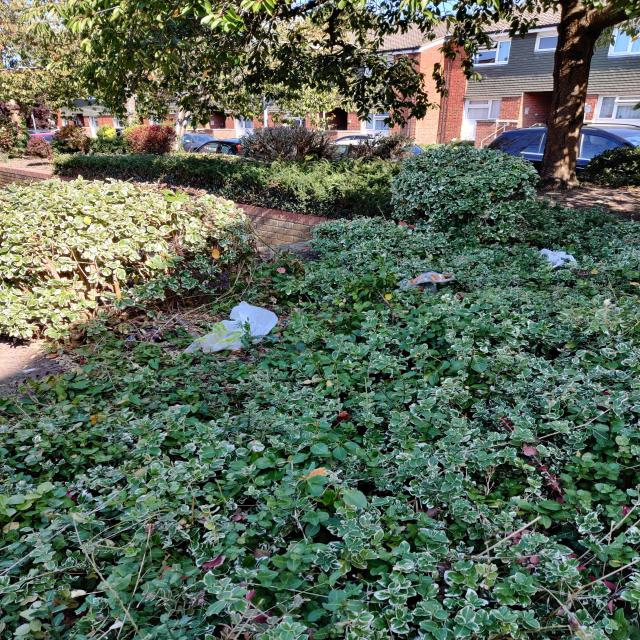litter: (185, 301, 278, 353), (401, 271, 456, 291), (538, 249, 577, 269)
